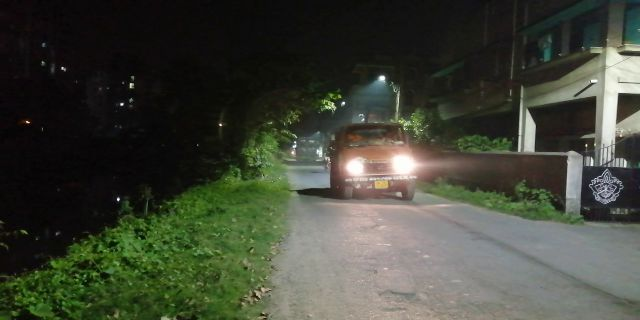Truck: (323, 118, 425, 200)
